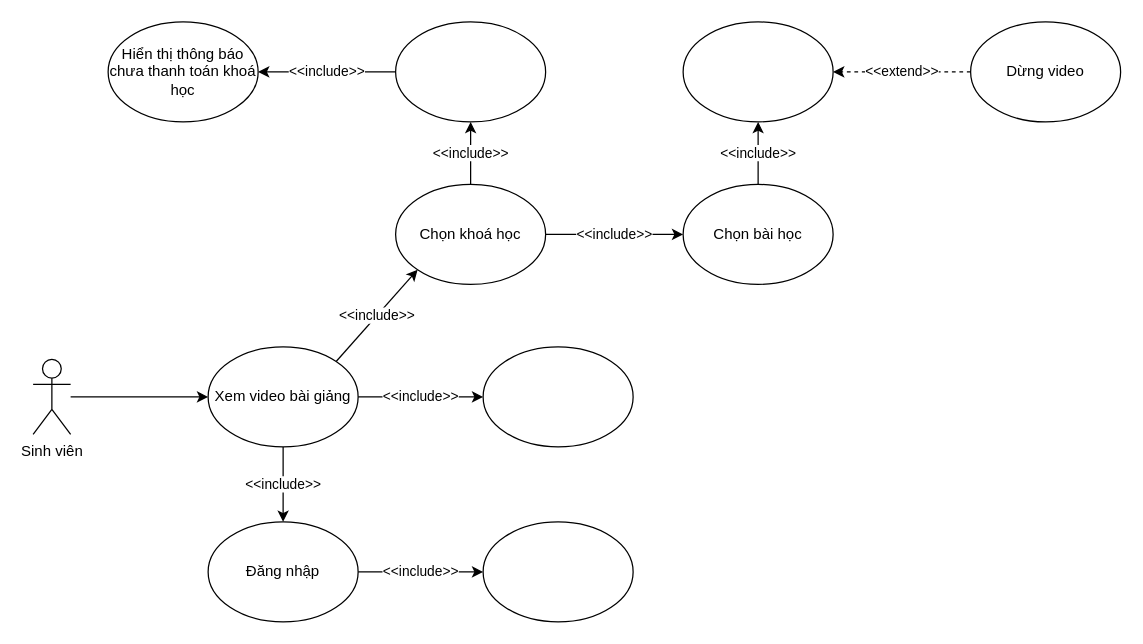
Some shapes in this 1143 by 644 pixel diagram are drawn without their labels. Here are the shapes that lost their labels. From the top down, the centre of each, then its label:
At (470,71): "Kiểm tra trạng thái thanh toán khoá học".
At (757,71): "Chọn xem video bài học".
At (557,396): "Lưu trạng thái video".
At (557,571): "Lưu trạng thái đăng nhập".
